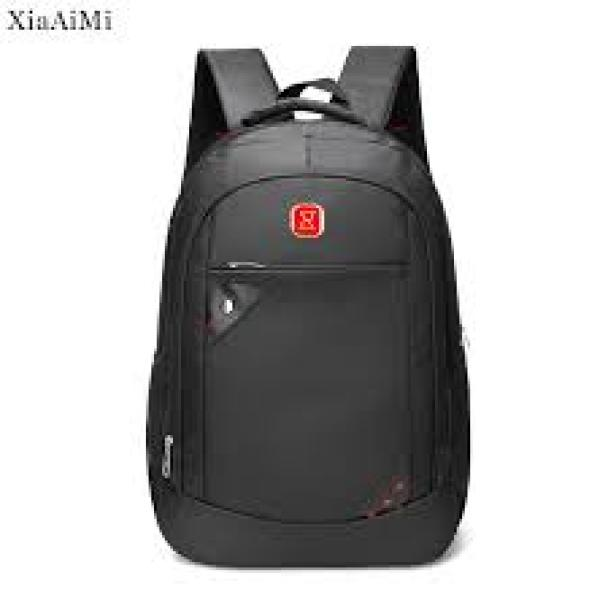Tas: (142, 121, 462, 564)
